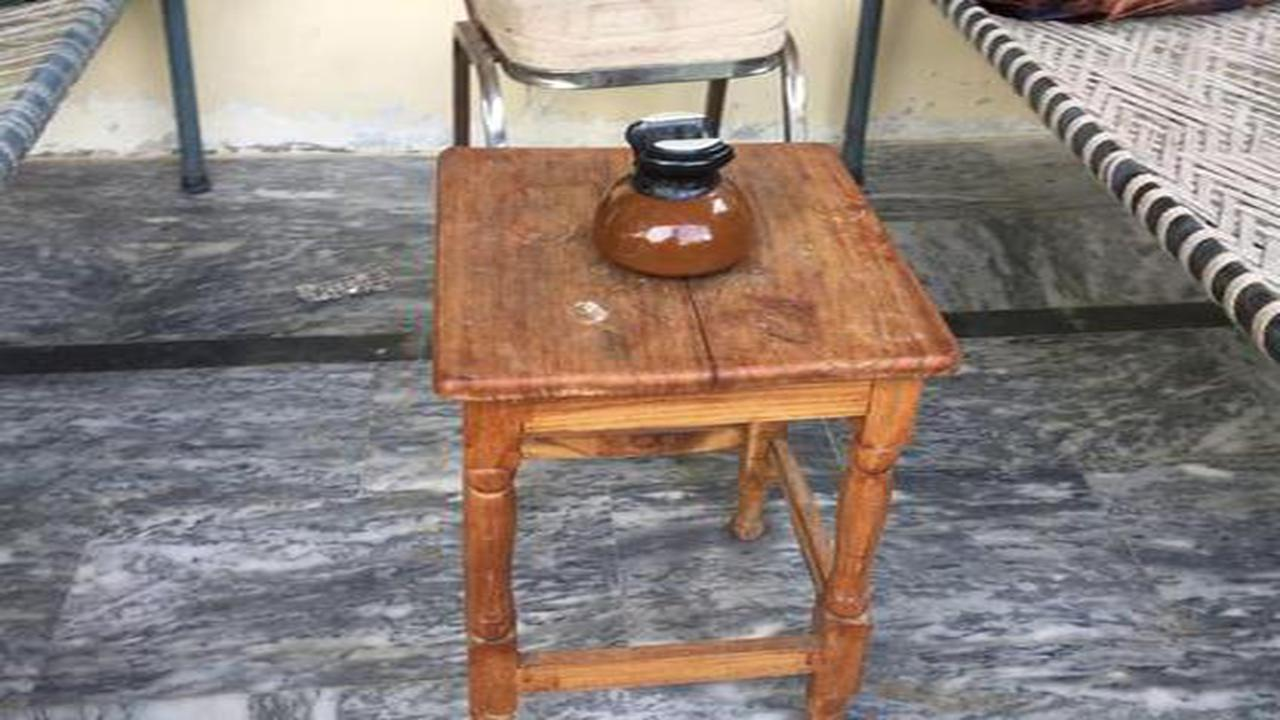insulator_pin: (573, 99, 779, 296)
